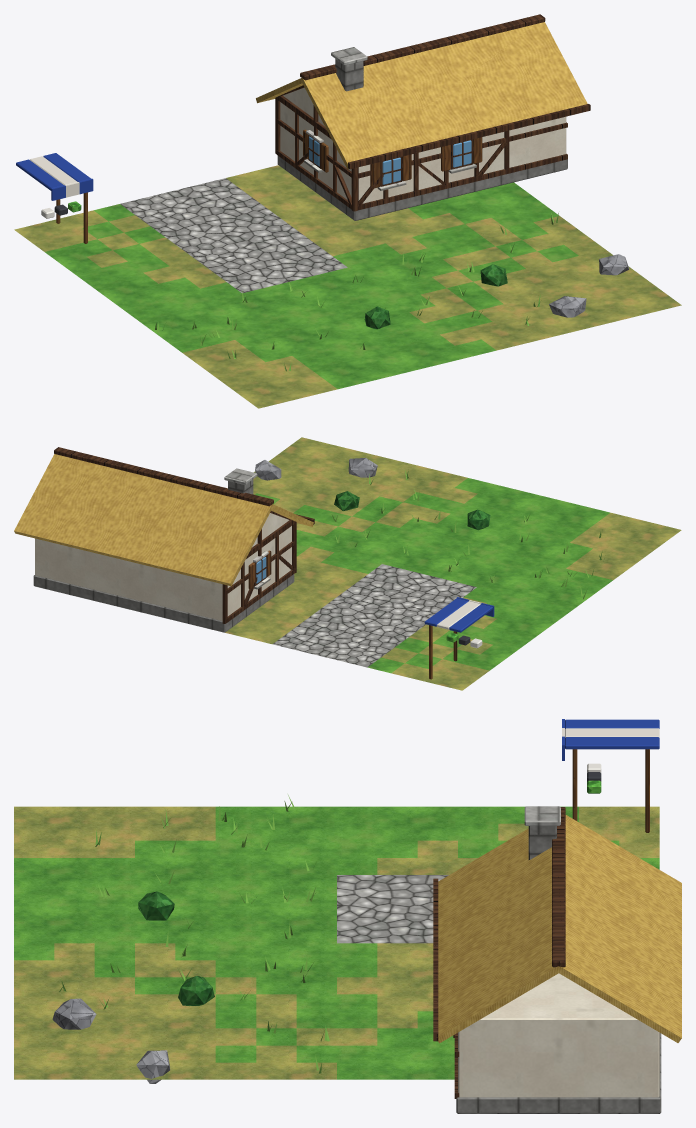
File: chunk_10_6.glb
3 views of the same model, one above another, from view 1: azimuth 30°, elevation 25°; view 2: azimuth 150°, elevation 25°; view 3: azimuth 270°, elevation 25° (orthographic). The views are drawn at different scales.
Visible parts, largest first — view 1: chunk_10_6; view 2: chunk_10_6; view 3: chunk_10_6.
Boxes of the visible parts, box(x1,y1,x2,y2) form: chunk_10_6: box(14, 14, 681, 408); chunk_10_6: box(14, 437, 681, 690); chunk_10_6: box(14, 719, 681, 1113).
Bounding box in the file's own units: 18.55 × 5.27 × 16.55.
Materials: 20 (14 with a texture image).
